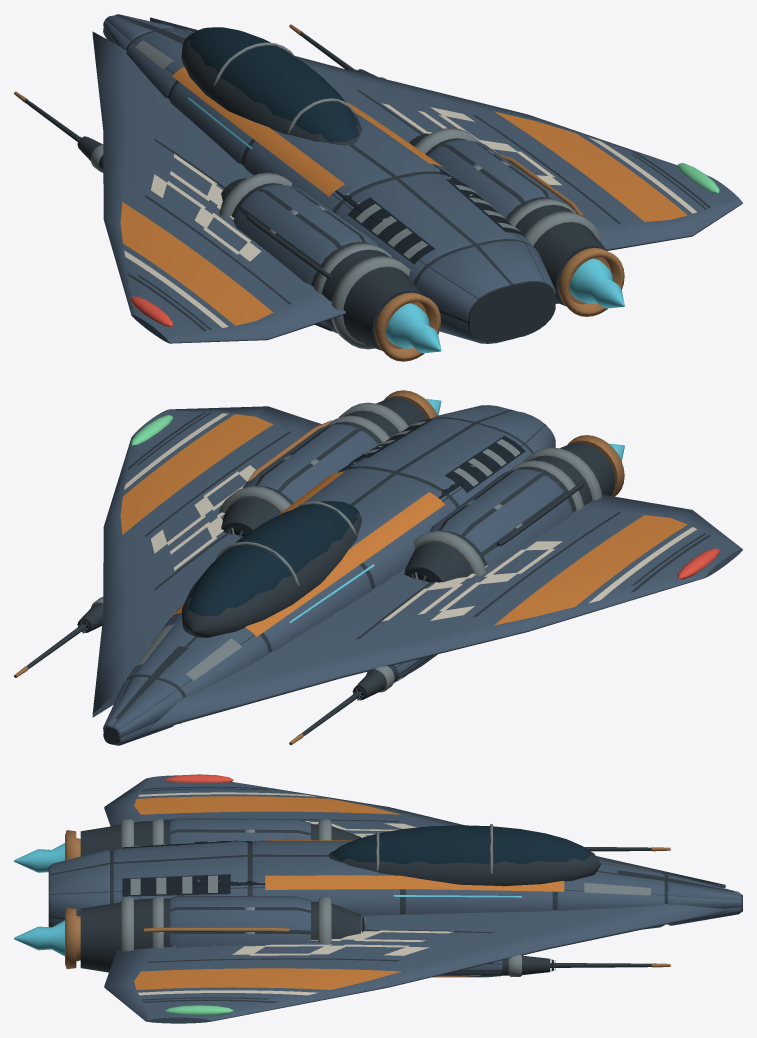
Rendered from delta.glb.
The picture shows the model from 3 angles, top to bottom: view 1: azimuth 30°, elevation 25°; view 2: azimuth 150°, elevation 25°; view 3: azimuth 270°, elevation 25°; orthographic projection. The views are drawn at different scales.
Visible parts, largest first — view 1: delta; view 2: delta; view 3: delta.
Boxes of the visible parts, left/top/right/bottom form: delta: left=14, top=14, right=742, bottom=361; delta: left=14, top=390, right=742, bottom=745; delta: left=14, top=774, right=742, bottom=1023.
Bounding box in the file's own units: 9.06 × 1.92 × 11.53.
